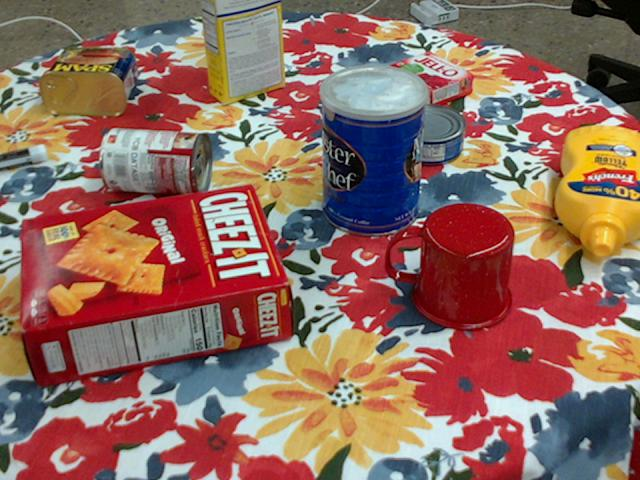cracker_box: (23, 185, 290, 387)
gelatin_box: (384, 53, 471, 110)
large_marker: (0, 143, 47, 169)
master_chef_can: (319, 65, 426, 238)
mug: (385, 203, 514, 331)
mustard_bottle: (554, 124, 639, 256)
potted_meat_can: (39, 46, 137, 115)
sugar_box: (201, 0, 284, 102)
tomato_soup_can: (98, 128, 210, 196)
tuna_fish_can: (390, 104, 465, 165)
